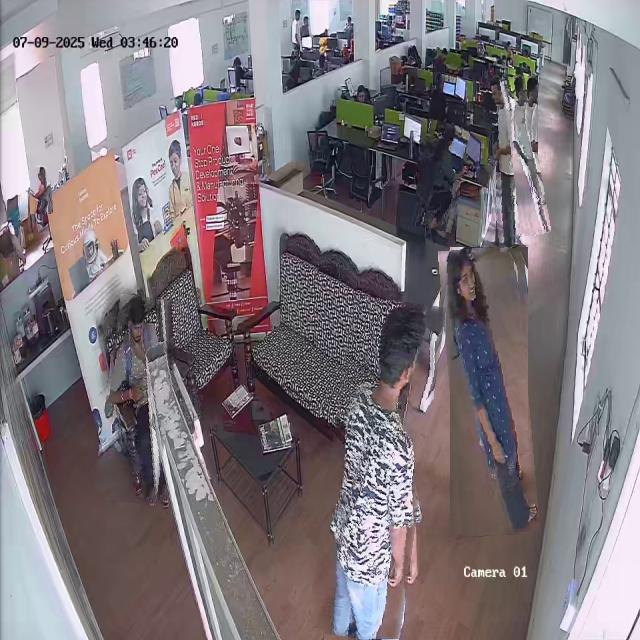person: (318, 297, 435, 640), (444, 246, 534, 537), (99, 296, 177, 504), (485, 75, 521, 252), (506, 76, 545, 236), (415, 120, 467, 232), (29, 165, 52, 214)
